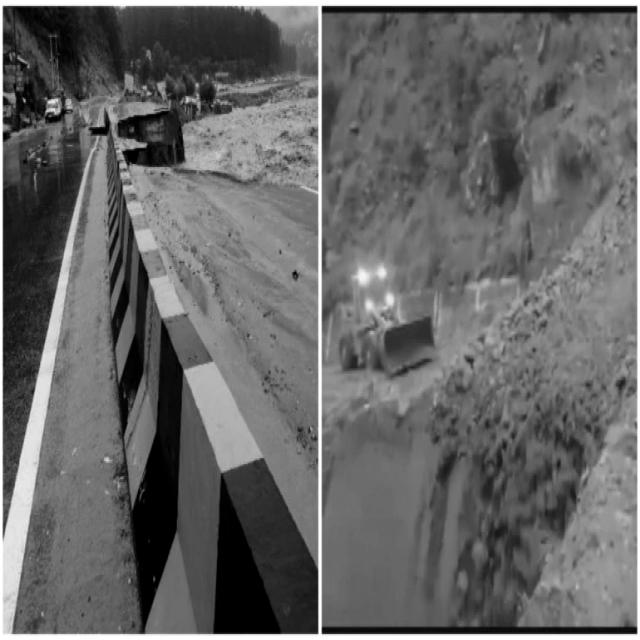cleat: (10, 77, 98, 447)
pathole: (105, 63, 560, 640)
